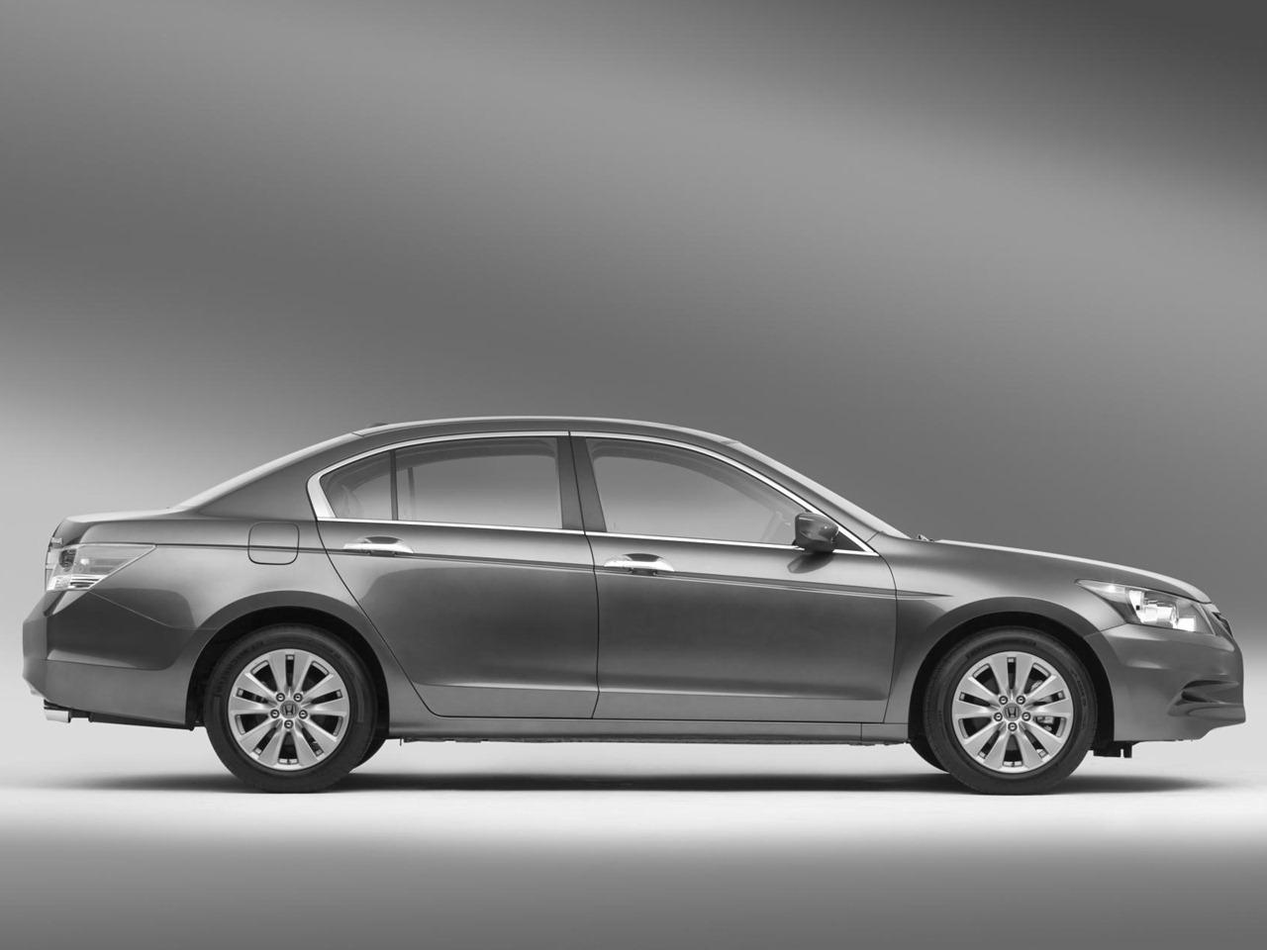car: (20, 410, 1253, 799)
